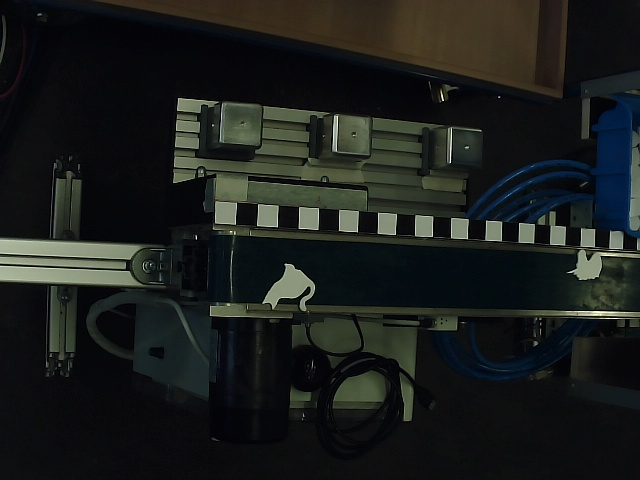cat: (262, 263, 316, 311)
unicorn: (567, 250, 605, 282)
